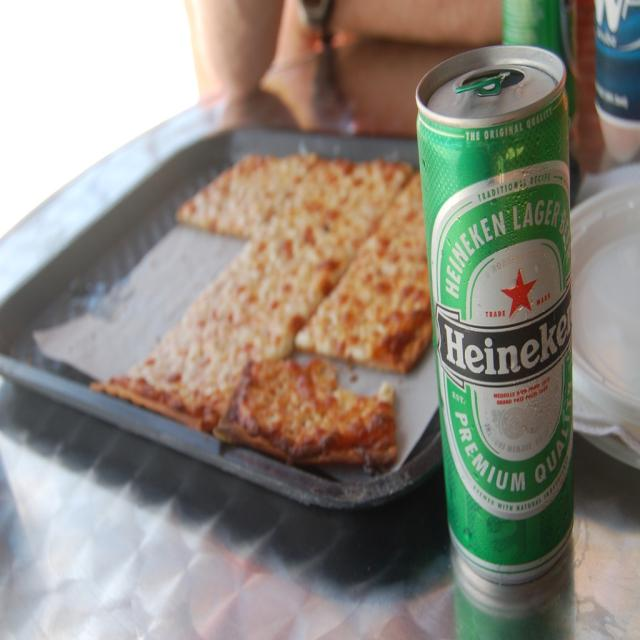heineken: (431, 161, 575, 522)
